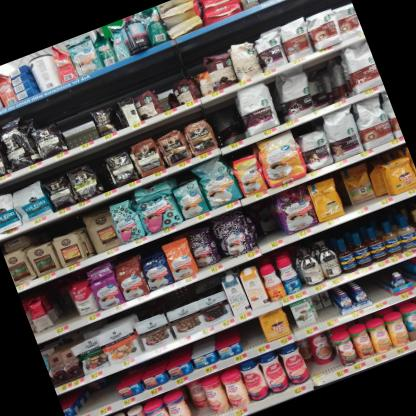empty_space: (58, 109, 97, 150), (48, 281, 79, 326), (237, 317, 267, 353), (96, 376, 121, 407), (363, 277, 386, 306), (84, 383, 103, 416)
